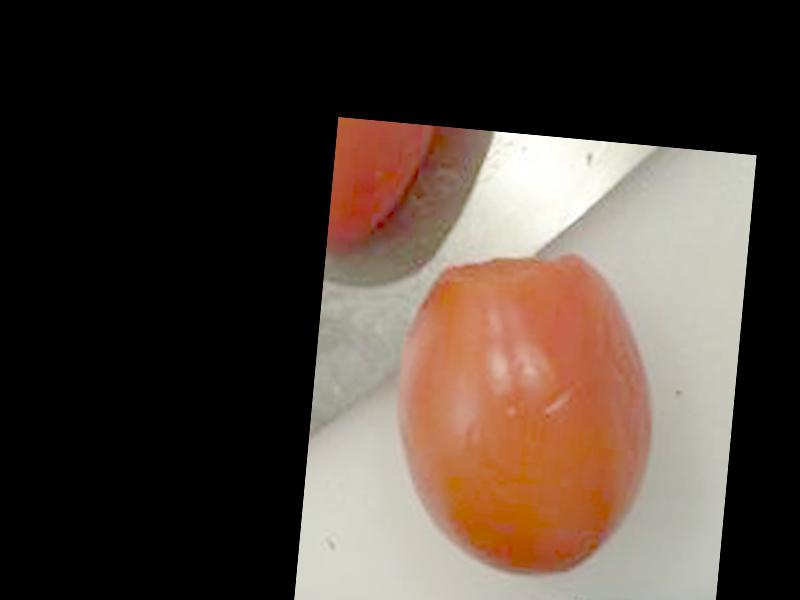Tomato: (380, 240, 666, 586)
